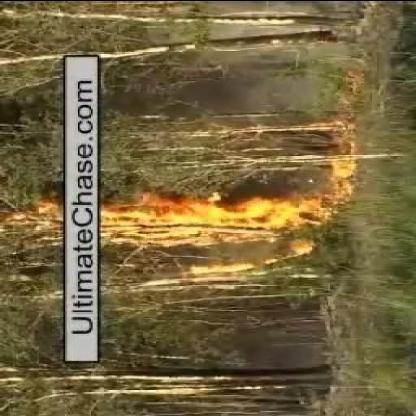foggia-v2-map80-epoch100 - v1 4323: (103, 195, 319, 259), (328, 162, 354, 194), (30, 202, 62, 226)
